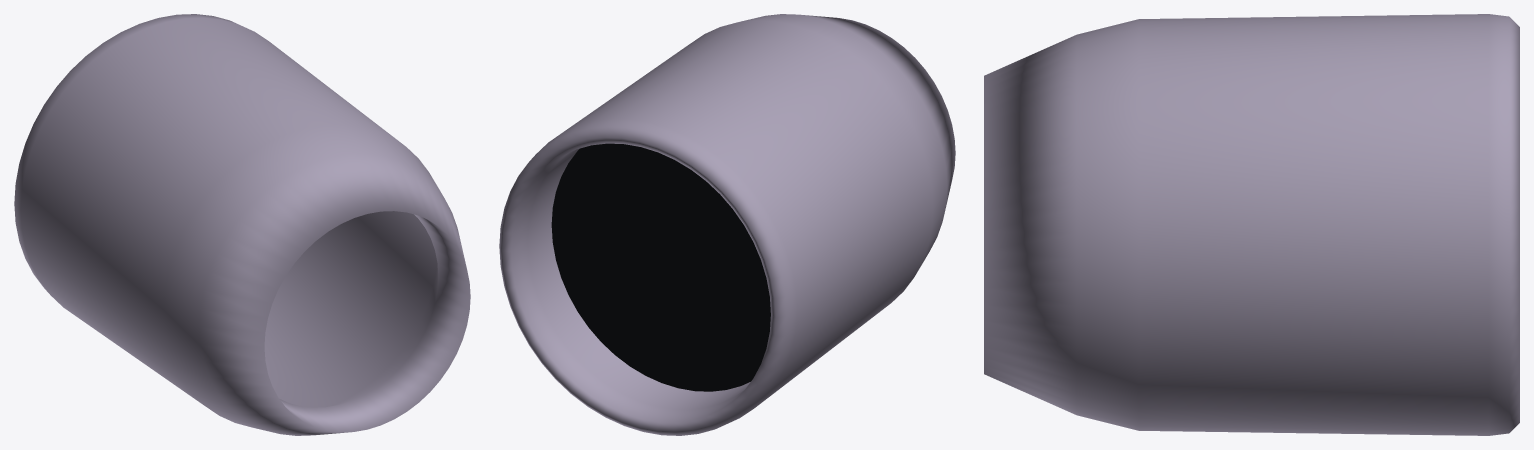
File: EX40_big_bore.glb
The picture shows the model from 3 angles, left to right: view 1: azimuth 30°, elevation 25°; view 2: azimuth 150°, elevation 25°; view 3: azimuth 270°, elevation 25°; orthographic projection. The views are drawn at different scales.
Parts seen in each view (by area): view 1: MOD_NA_EX40_tip; view 2: MOD_NA_EX40_tip, MOD_NA_EX40_bore; view 3: MOD_NA_EX40_tip.
Part boxes in pixels (left/top/right/bottom): MOD_NA_EX40_tip: left=14, top=14, right=470, bottom=435; MOD_NA_EX40_tip: left=499, top=14, right=955, bottom=435; MOD_NA_EX40_bore: left=551, top=143, right=770, bottom=391; MOD_NA_EX40_tip: left=984, top=14, right=1519, bottom=435.
Size of the model in its own units: 0.082 by 0.082 by 0.104.
